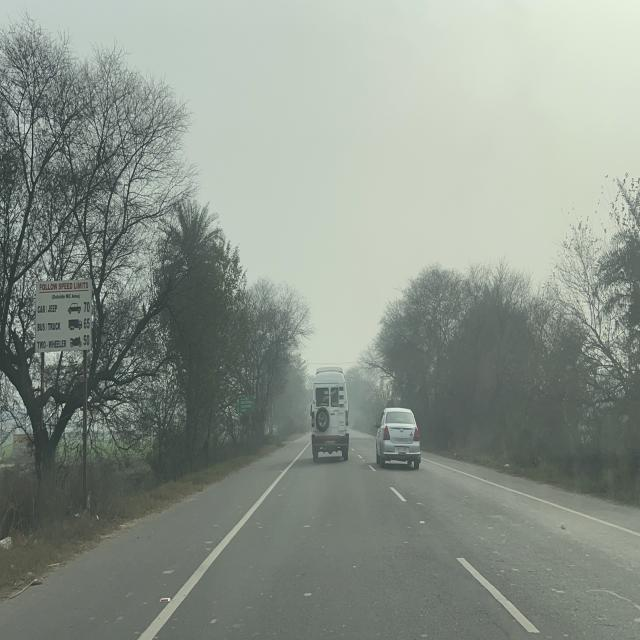GENERAL: (235, 396, 254, 413)
